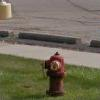Hydrant: (39, 43, 68, 100)
